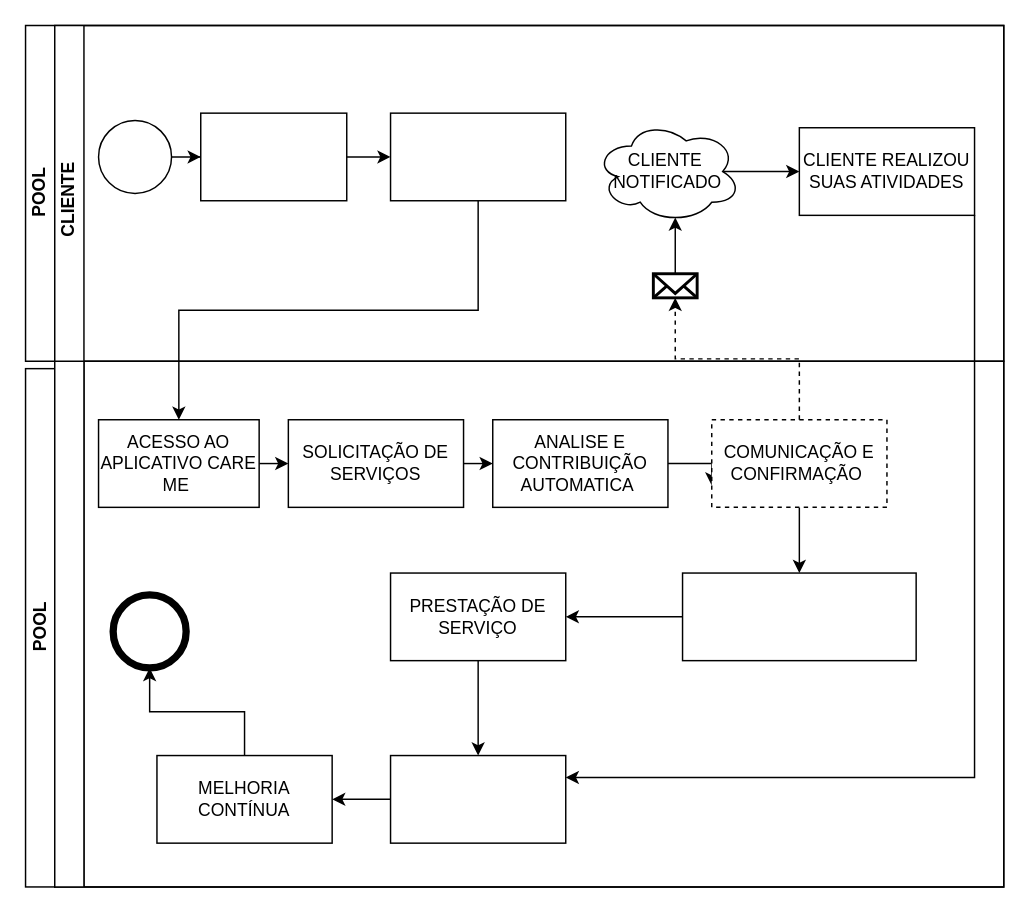
This 1029x913 diagram has some shape labels left out. Here are the shapes that lost their labels. From the top down, the box of each, then its label:
(199, 112, 347, 201): PRECISA REALIZAR SUAS ATIVIDADES DIARIAS
(389, 112, 566, 201): NECESSIDADE DE SERVIÇOS
(53, 360, 1004, 887): SOFTWARE
(681, 572, 916, 661): DESLOCAMENTO DO CUIDADOR/MOTORISTA
(389, 754, 566, 843): FEEDBACK E AVALIAÇÃO
